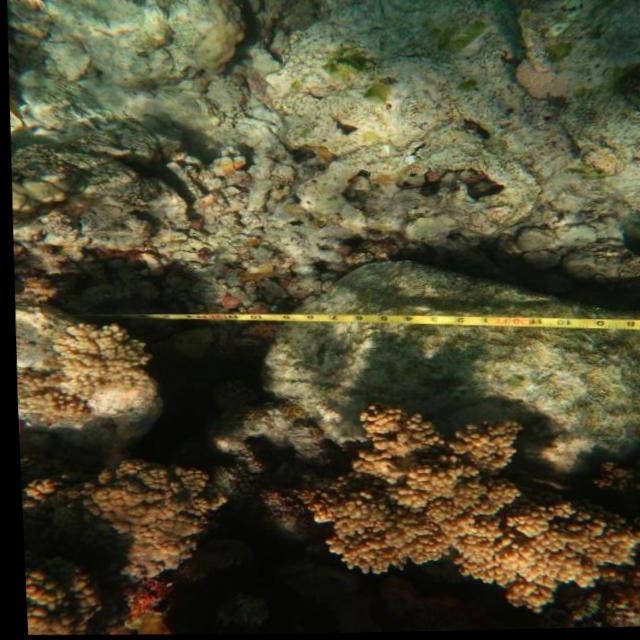Healthy Coral: (275, 399, 640, 635), (16, 459, 206, 637)
